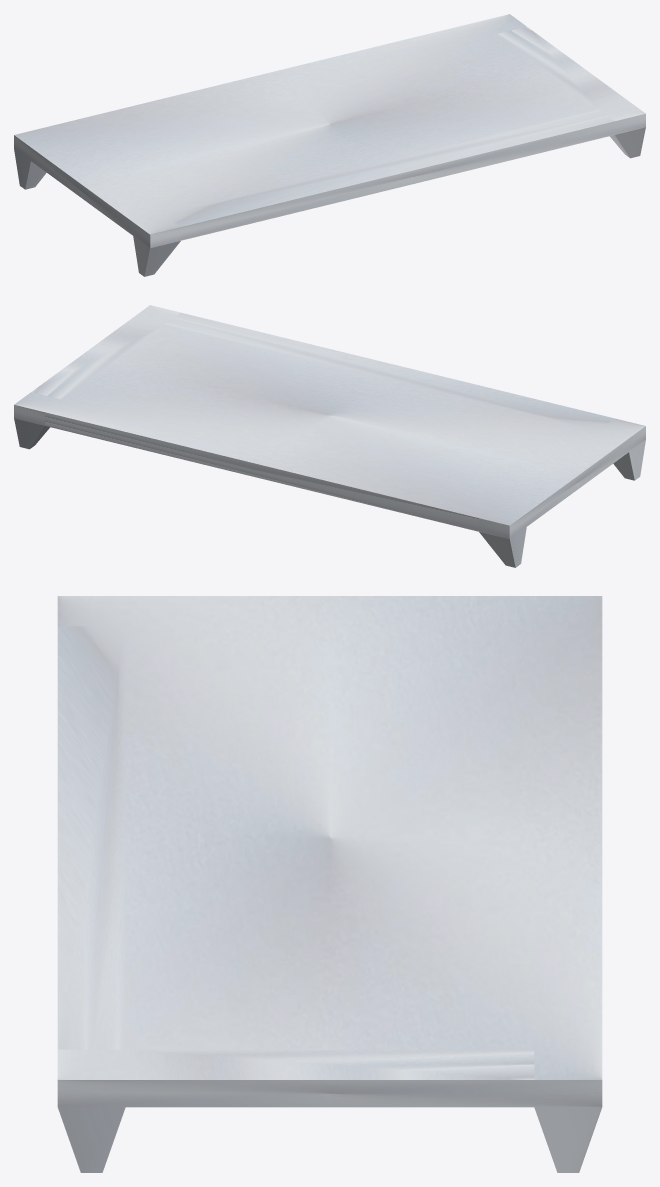
The model's file is camaBase.obj.
3 renders of one model, top to bottom at view 1: azimuth 30°, elevation 25°; view 2: azimuth 150°, elevation 25°; view 3: azimuth 270°, elevation 25°, orthographic. The views are drawn at different scales.
Size of the model in its own units: 795 by 71.26 by 378.
Materials: 1 (1 with a texture image).
